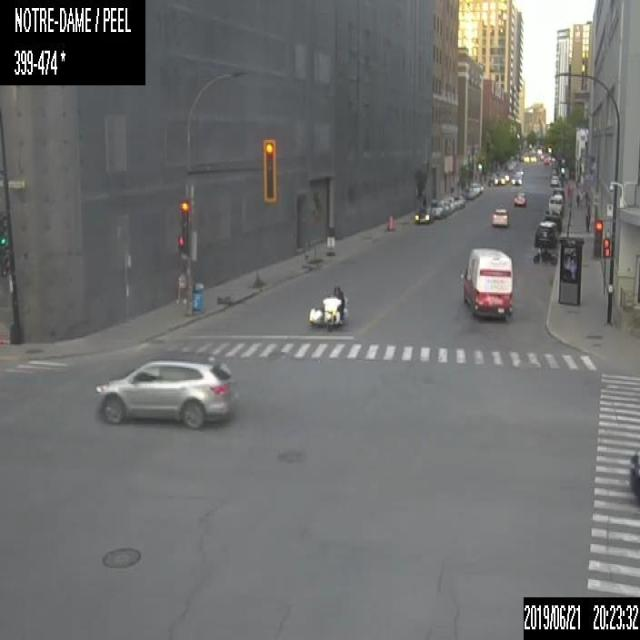construction: (386, 212, 394, 230)
pedestrian: (174, 267, 186, 304), (585, 208, 590, 231), (422, 193, 426, 210), (575, 192, 579, 206)
vehicle: (90, 356, 235, 432), (460, 244, 516, 321), (305, 284, 348, 331), (532, 243, 558, 266), (629, 448, 639, 507), (534, 221, 557, 246), (491, 204, 509, 228), (544, 213, 561, 233), (414, 207, 434, 224), (548, 194, 562, 214), (513, 190, 526, 207), (551, 186, 564, 202), (432, 204, 445, 218), (442, 197, 456, 210), (470, 181, 482, 195), (439, 200, 451, 213), (463, 187, 475, 199), (454, 194, 464, 208), (550, 174, 558, 184)
